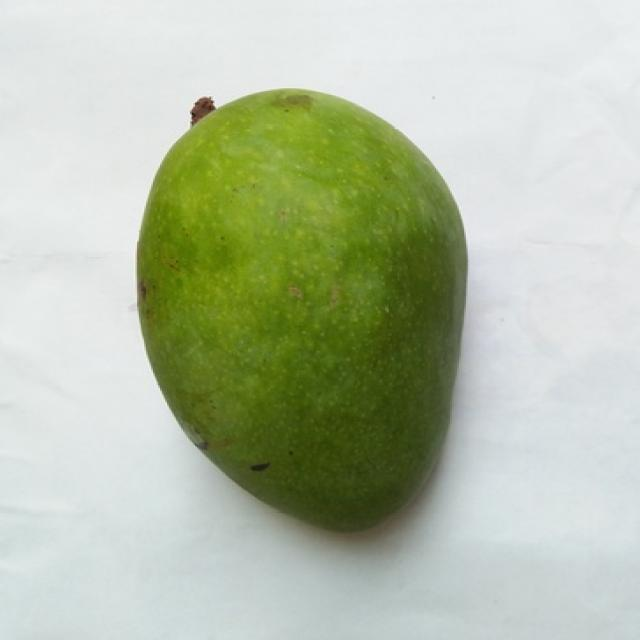Mango: (141, 89, 466, 531)
